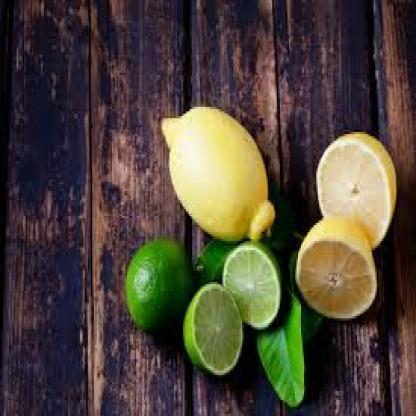lemon: (160, 107, 276, 242), (316, 132, 397, 250), (294, 215, 378, 319)
